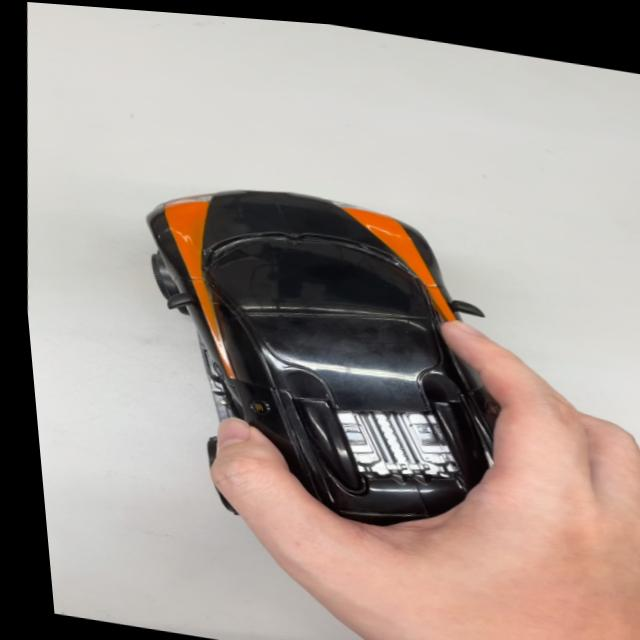vehicle_body: (106, 160, 530, 554)
